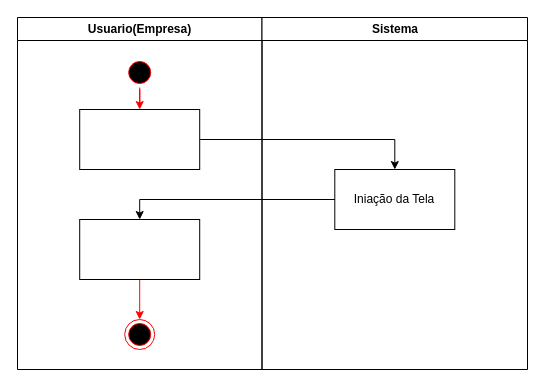
The diagram is 545 pixels wide and 387 high, and some of its shapes have lost their labels. The centre of each missing label's shape, as x and y in pixels:
Acionamento do sistema de reconhecimento: pixel 139 249
Inicialização do sistema: pixel 139 139
